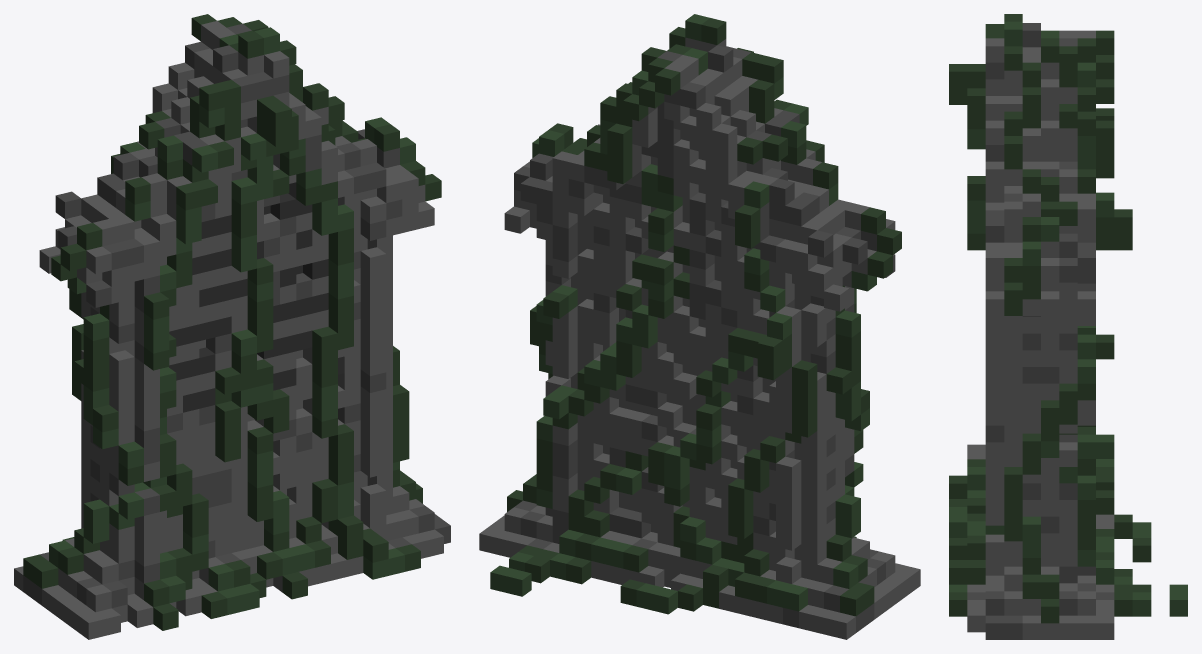
Rendered from grave_3w.obj.
3 views of the same model, side by side, from view 1: azimuth 30°, elevation 25°; view 2: azimuth 150°, elevation 25°; view 3: azimuth 270°, elevation 25° (orthographic).
Parts seen in each view (by area): view 1: grave_3w; view 2: grave_3w; view 3: grave_3w.
Part boxes in pixels (<box>): grave_3w: <box>14,14,450,639</box>; grave_3w: <box>479,14,920,639</box>; grave_3w: <box>949,14,1187,639</box>.
Bounding box in the file's own units: 2.3 × 3.2 × 1.3.
1 material, 1 textured.
